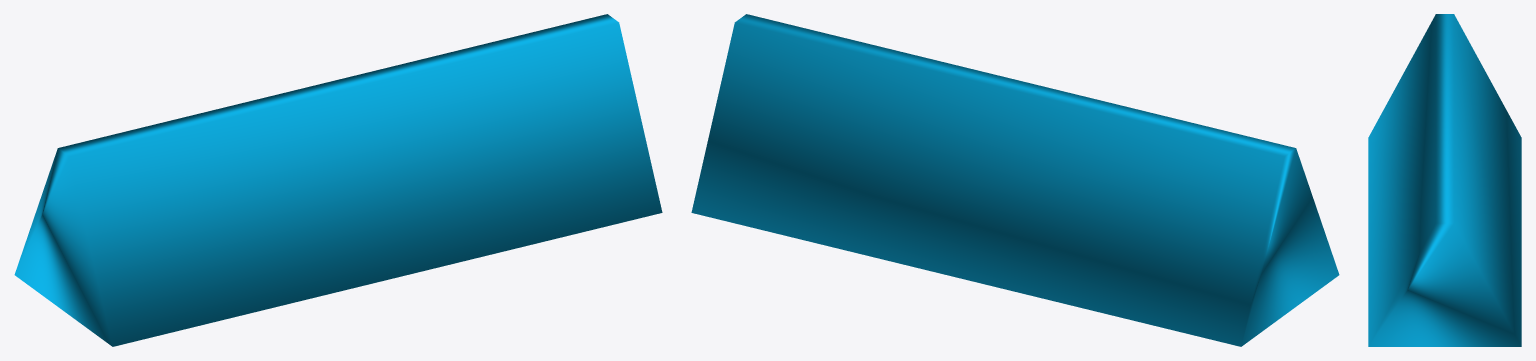
The model's file is Cut_Wood_03.fbx.
3 renders of one model, left to right at view 1: azimuth 30°, elevation 25°; view 2: azimuth 150°, elevation 25°; view 3: azimuth 270°, elevation 25°, orthographic. The views are drawn at different scales.
Parts seen in each view (by area): view 1: Cut_Wood_03; view 2: Cut_Wood_03; view 3: Cut_Wood_03.
Part boxes in pixels (x1,y1,x2,y2): Cut_Wood_03: [14, 14, 662, 346]; Cut_Wood_03: [691, 14, 1339, 346]; Cut_Wood_03: [1368, 14, 1521, 346].
Bounding box in the file's own units: 58.59 × 16.16 × 18.14.
